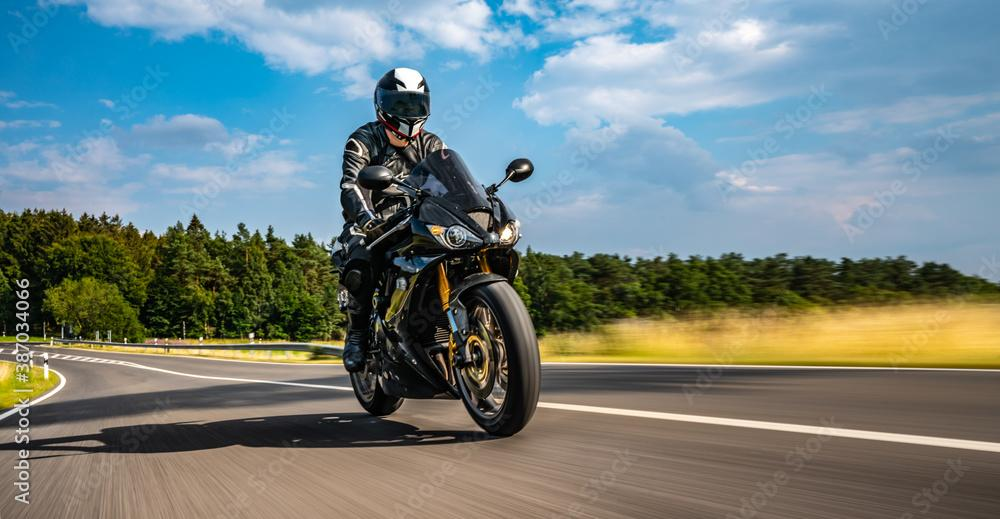helmet: (373, 67, 431, 142)
